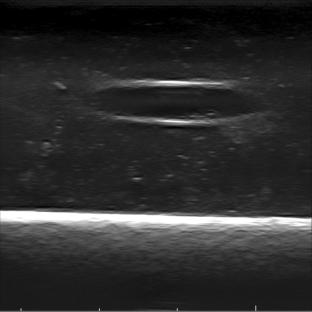vessel: (86, 79, 267, 128)
